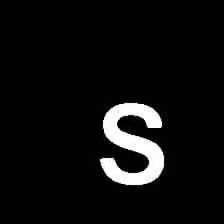LTR_S: (91, 93, 169, 189)
